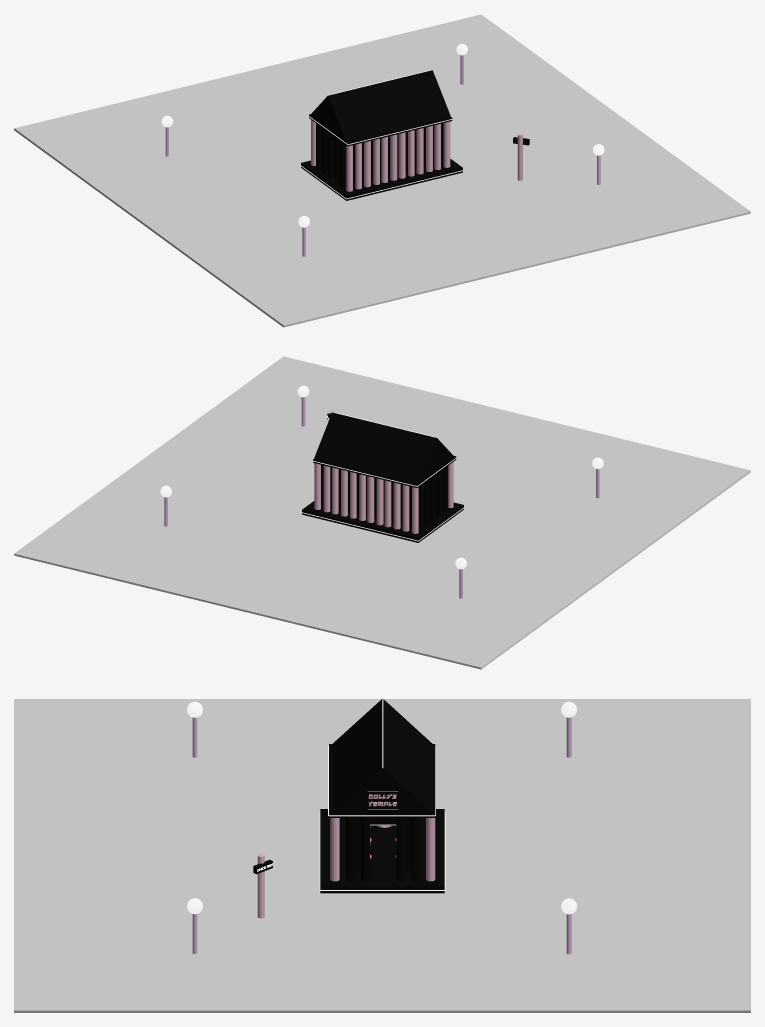
File: DollysTemple.glb
3 views of the same model, one above another, from view 1: azimuth 30°, elevation 25°; view 2: azimuth 150°, elevation 25°; view 3: azimuth 270°, elevation 25° (orthographic). The views are drawn at different scales.
Visible parts, largest first — view 1: Ground, Roof, Floor, BuildingBody; view 2: Ground, Roof, Floor, BuildingBody; view 3: Ground, Roof, Floor, BuildingBody, Pillar1, Pillar33, Pillar31, Pillar30, Pillar32, Pillar34.
Boxes of the visible parts, box(x1,y1,x2,y2) form: Ground: box(14, 14, 750, 327); Roof: box(309, 70, 452, 146); Floor: box(301, 159, 462, 200); BuildingBody: box(353, 127, 425, 184); Ground: box(14, 356, 750, 669); Roof: box(313, 412, 456, 487); Floor: box(302, 501, 463, 542); BuildingBody: box(338, 469, 411, 526); Ground: box(14, 699, 750, 1012); Roof: box(329, 699, 435, 817); Floor: box(320, 809, 444, 893); BuildingBody: box(355, 818, 410, 871); Pillar1: box(426, 818, 435, 881); Pillar33: box(396, 818, 405, 881); Pillar31: box(346, 818, 355, 881); Pillar30: box(330, 818, 339, 881); Pillar32: box(360, 818, 369, 881); Pillar34: box(410, 818, 419, 881).
Bounding box in the file's own units: 15.84 × 2.91 × 15.83.
